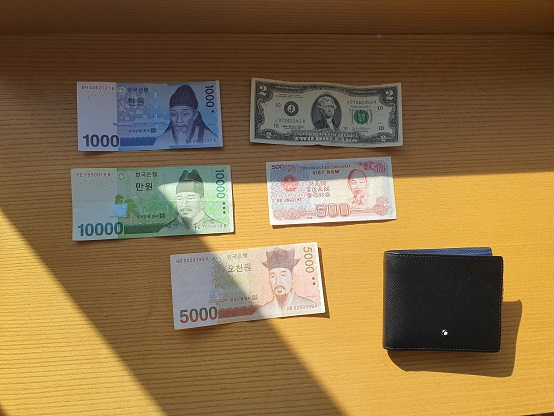10000won: (70, 165, 234, 241)
1000won: (77, 80, 225, 151)
2dollar: (249, 78, 404, 148)
5000won: (168, 241, 326, 330)
500vnd: (267, 155, 399, 225)
